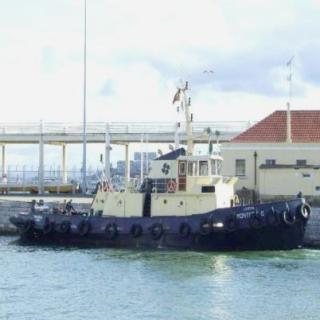Tug Boat: (17, 136, 316, 248)
